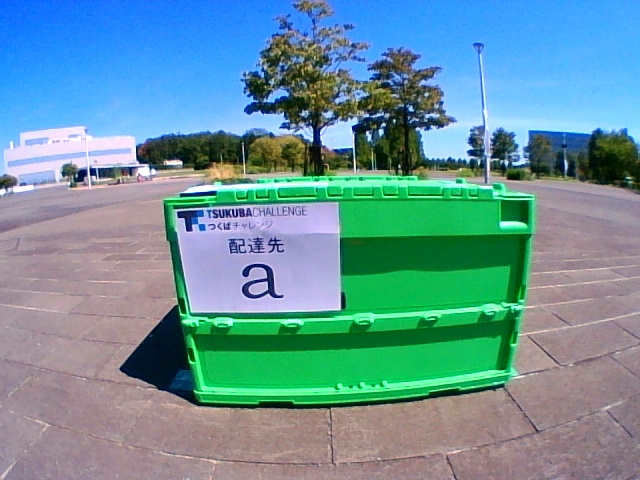green_box: (163, 175, 533, 407)
tag_a: (191, 210, 337, 311)
